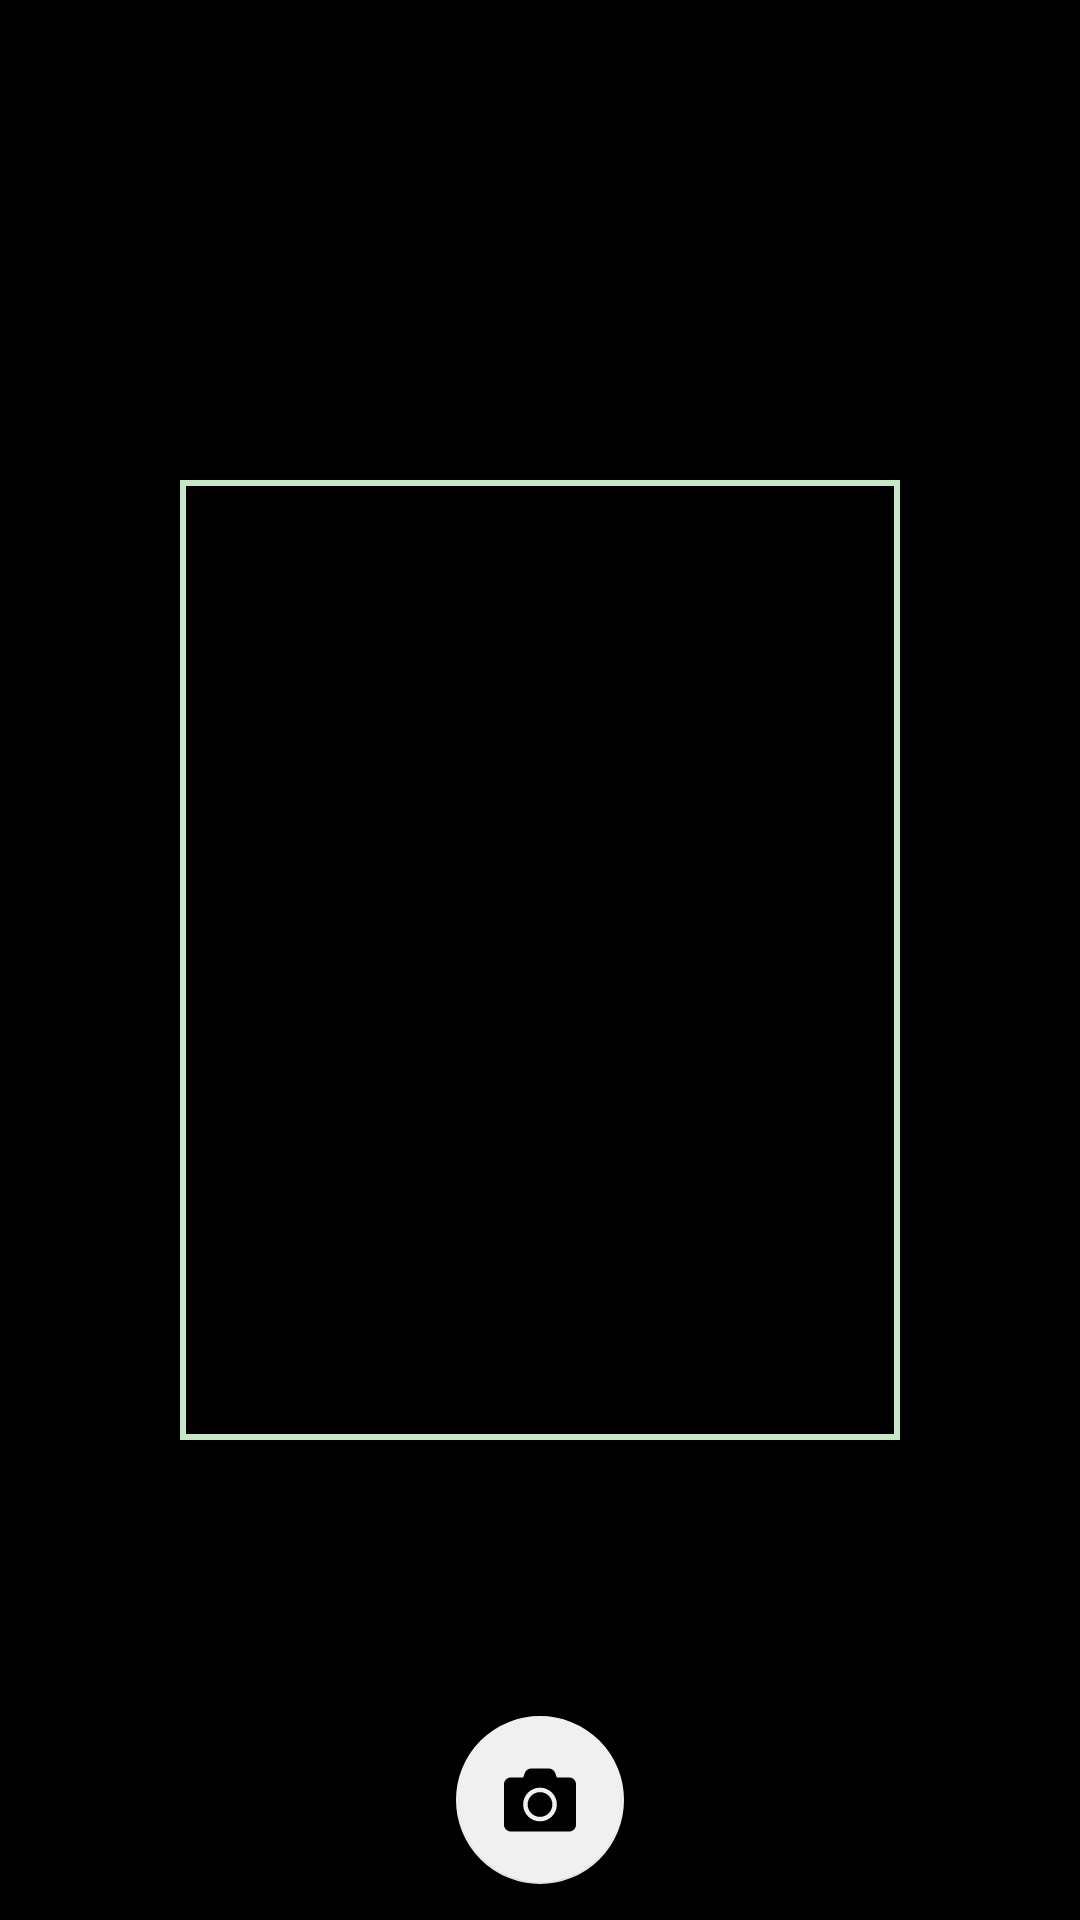

Where to tap for icons on this 1080px x 1920px app screen, as (x,y):
camera: (540,1800)
